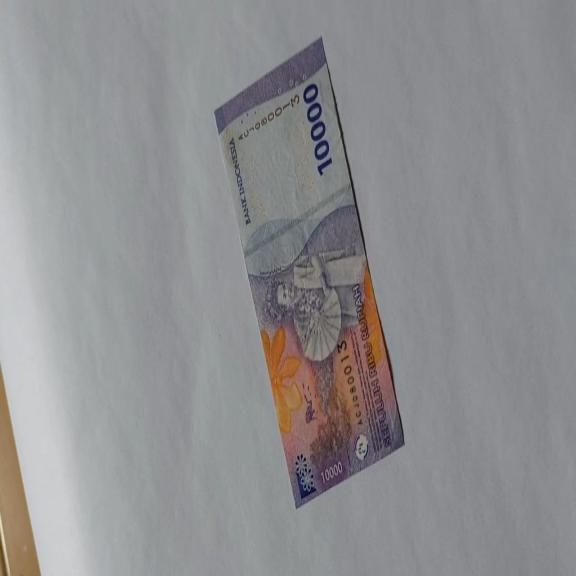Kertas: (213, 34, 405, 509)
